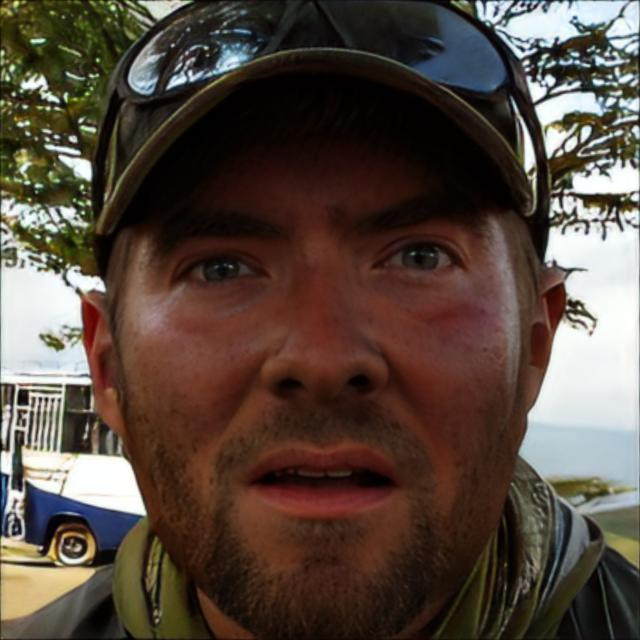disgust: (117, 46, 520, 640)
